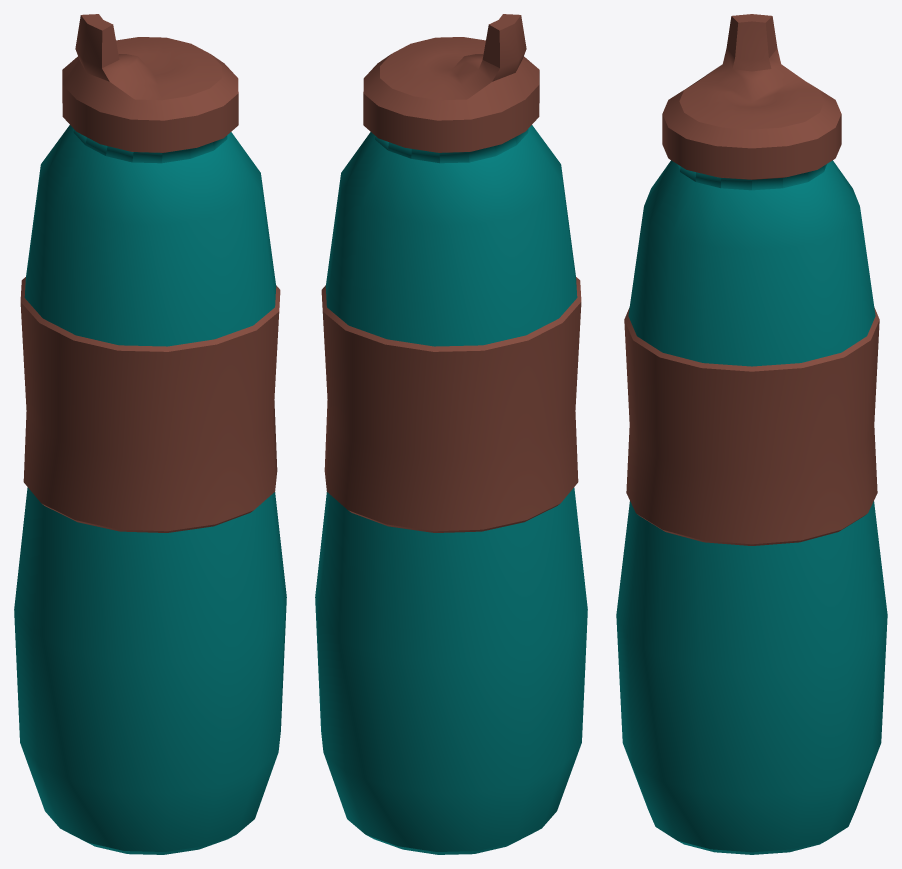
The model's file is Bottle.fbx.
3 views of the same model, side by side, from view 1: azimuth 30°, elevation 25°; view 2: azimuth 150°, elevation 25°; view 3: azimuth 270°, elevation 25° (orthographic). The views are drawn at different scales.
Parts seen in each view (by area): view 1: bottle_low (×2); view 2: bottle_low (×2); view 3: bottle_low (×2).
Part boxes in pixels (x1=…): bottle_low (×2): x1=14, y1=14, x2=286, y2=854; bottle_low (×2): x1=315, y1=14, x2=587, y2=854; bottle_low (×2): x1=616, y1=14, x2=887, y2=854.
Size of the model in its own units: 2.72 by 8.86 by 2.82.
